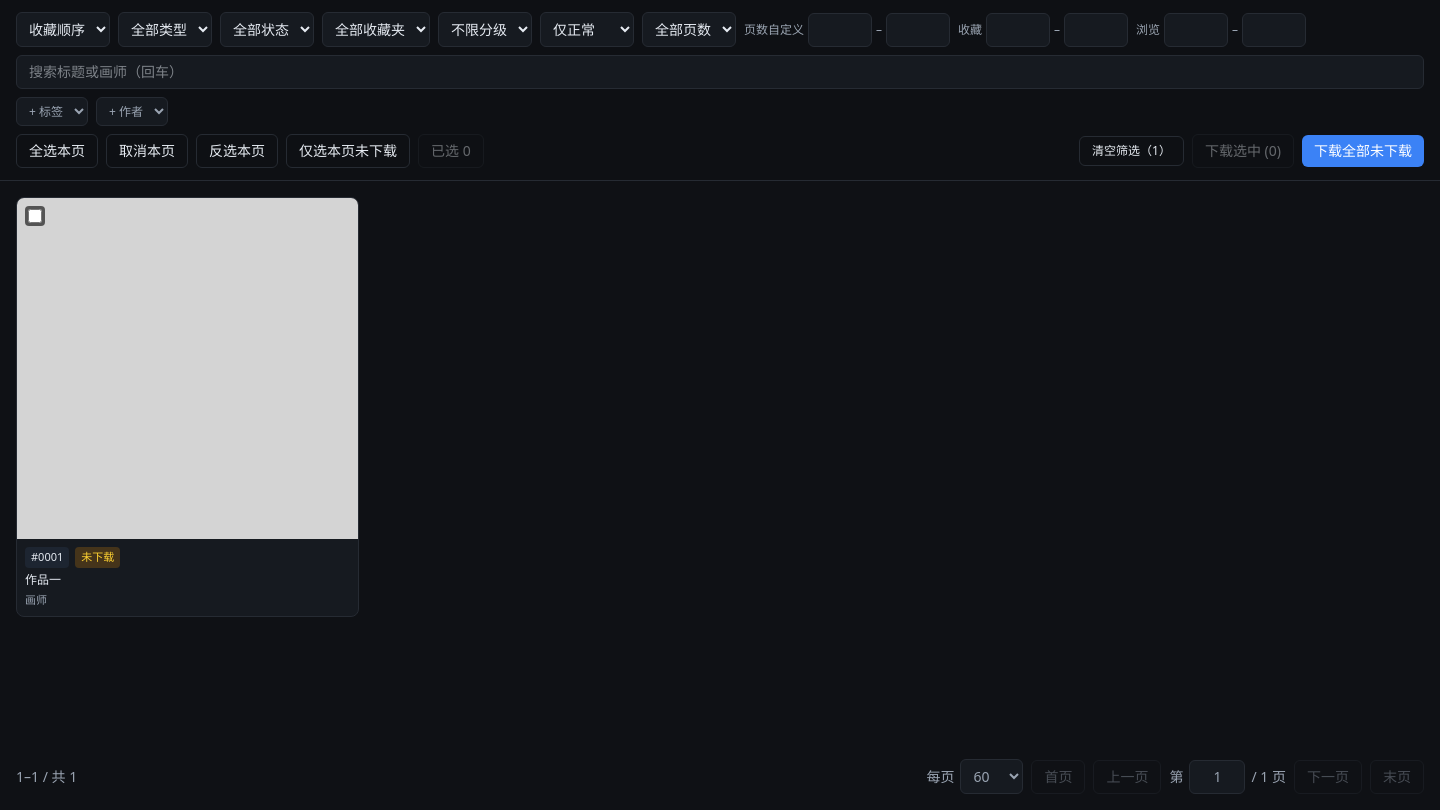
Gallery › clears the pinned unbookmarked filter via 清空筛选
The width and height of the screenshot is (1440, 810).
Expected: the text "作品一" is shown, left=25, top=570, right=61, bottom=588
Expected: the dropdown named "状态" shows "仅正常", left=540, top=12, right=634, bottom=47
Step 1. Click the button "清空筛选（1）" → [1131, 151], box left=1079, top=136, right=1184, bottom=166
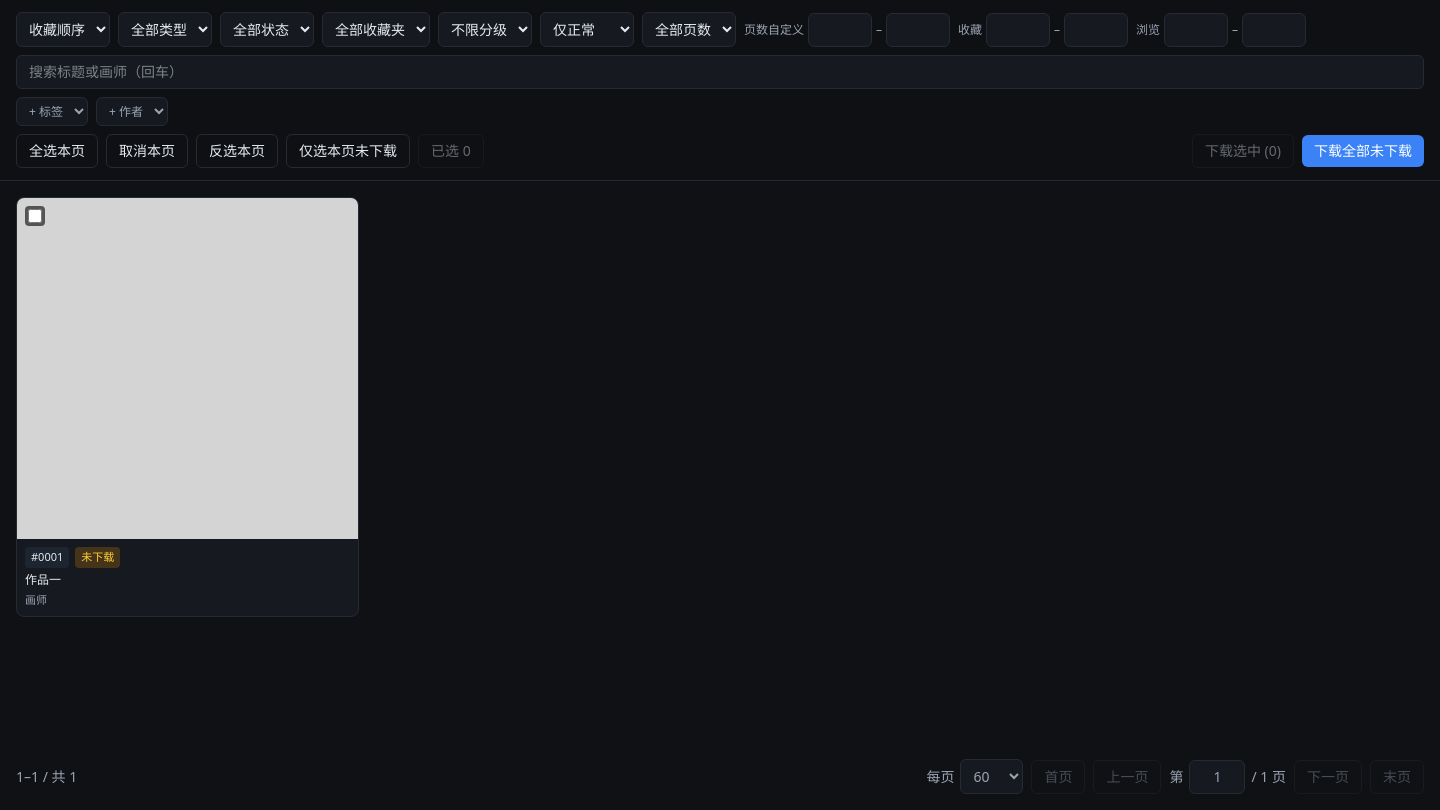
Now the button "清空筛选" is gone
